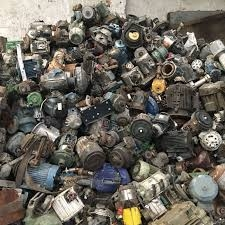metal: (37, 59, 102, 99), (14, 157, 66, 192), (158, 79, 200, 119), (135, 165, 173, 204), (72, 134, 112, 171), (116, 181, 147, 225), (52, 121, 81, 167), (183, 172, 220, 208), (10, 41, 36, 86), (158, 126, 196, 154), (30, 118, 63, 148), (181, 108, 215, 137), (127, 110, 156, 139), (65, 20, 90, 49)
